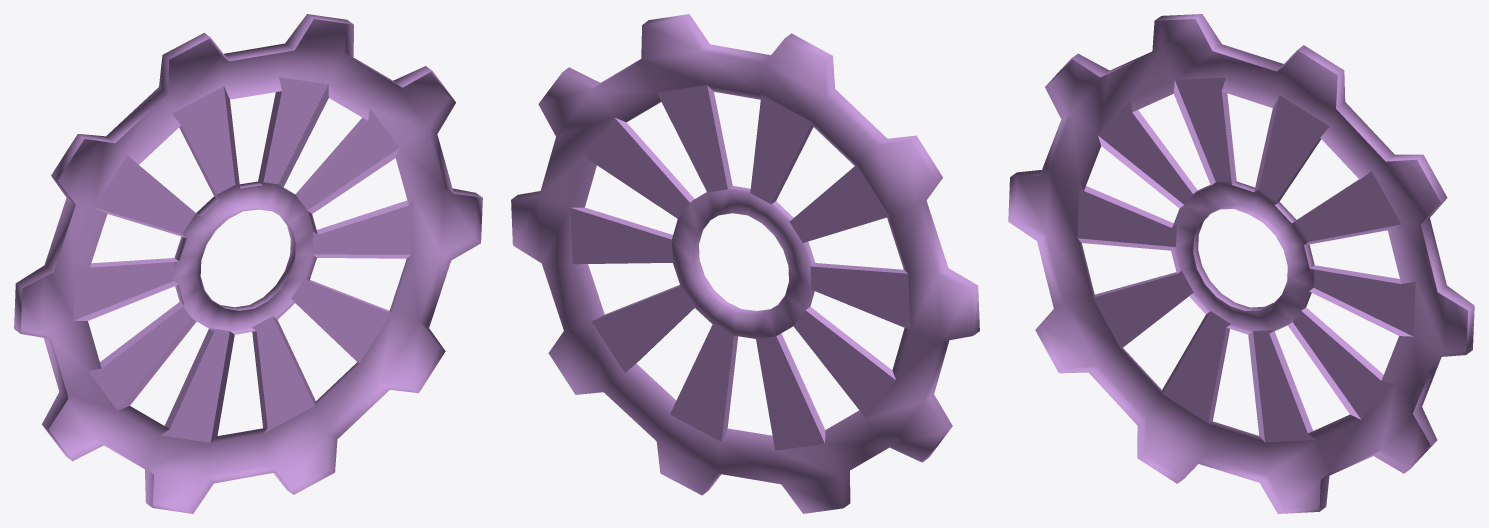
The model's file is gear1.FBX.
3 views of the same model, side by side, from view 1: azimuth 30°, elevation 25°; view 2: azimuth 150°, elevation 25°; view 3: azimuth 330°, elevation 25° (orthographic).
Visible parts, largest first — view 1: gear1; view 2: gear1; view 3: gear1.
Part boxes in pixels (x1,y1,x2,y2): gear1: (14, 14, 482, 513); gear1: (511, 14, 979, 513); gear1: (1008, 14, 1474, 513).
Size of the model in its own units: 65.27 by 64.42 by 2.64.
